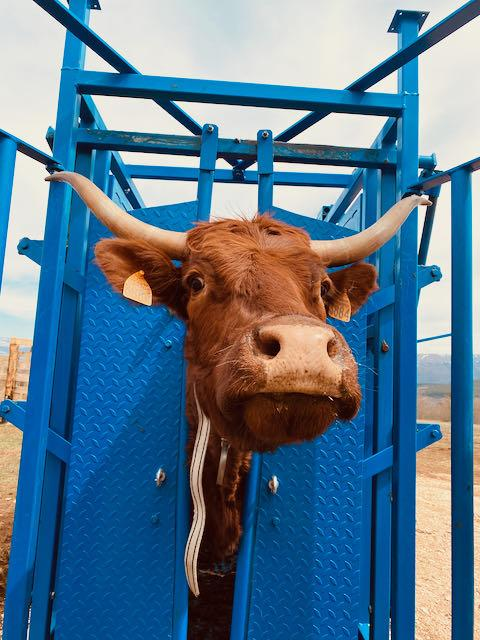muzzles: (231, 320, 360, 409)
